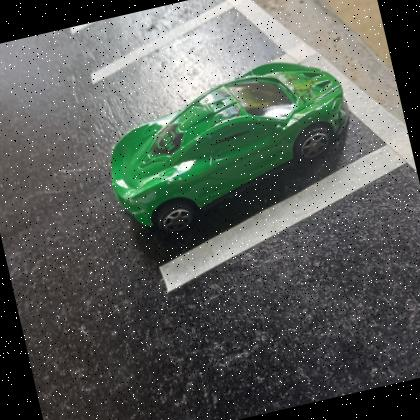Car: (110, 61, 349, 237)
